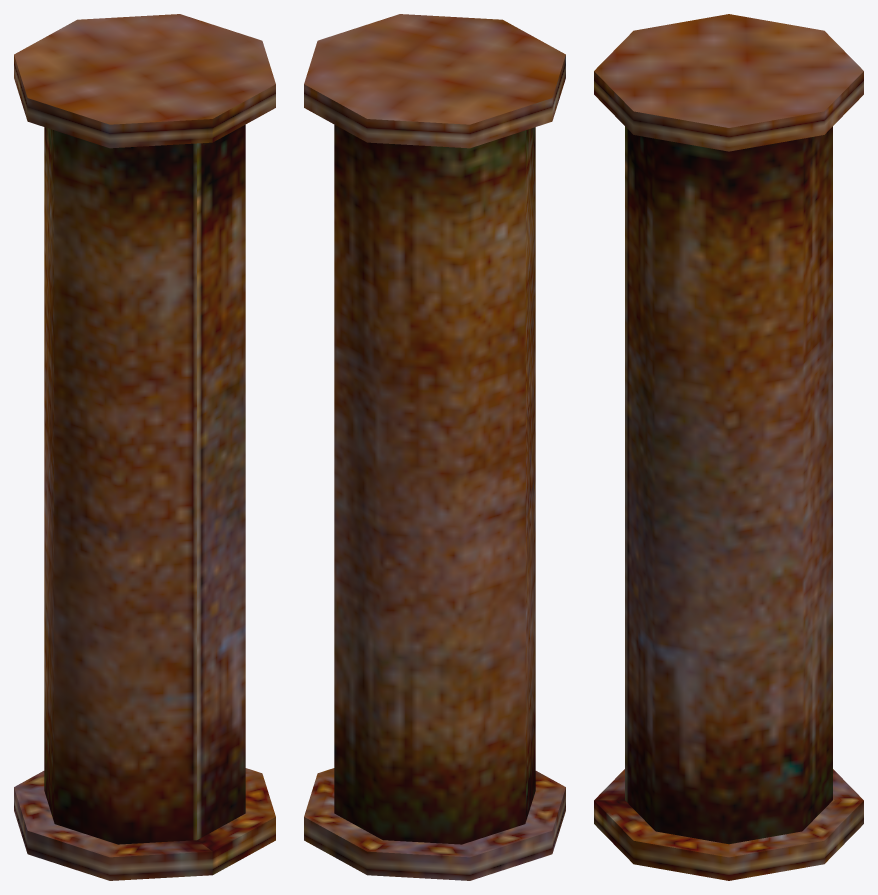
Rendered from MO_PIPE_BASE_01.fbx.
3 views of the same model, side by side, from view 1: azimuth 30°, elevation 25°; view 2: azimuth 150°, elevation 25°; view 3: azimuth 270°, elevation 25° (orthographic).
Visible parts, largest first — view 1: MO_PIPE_BASE_01; view 2: MO_PIPE_BASE_01; view 3: MO_PIPE_BASE_01.
Boxes of the visible parts, <box> form: MO_PIPE_BASE_01: <box>14,14,275,880</box>; MO_PIPE_BASE_01: <box>304,14,565,880</box>; MO_PIPE_BASE_01: <box>594,14,863,880</box>.
Size of the model in its own units: 1.3 by 4 by 1.3.
